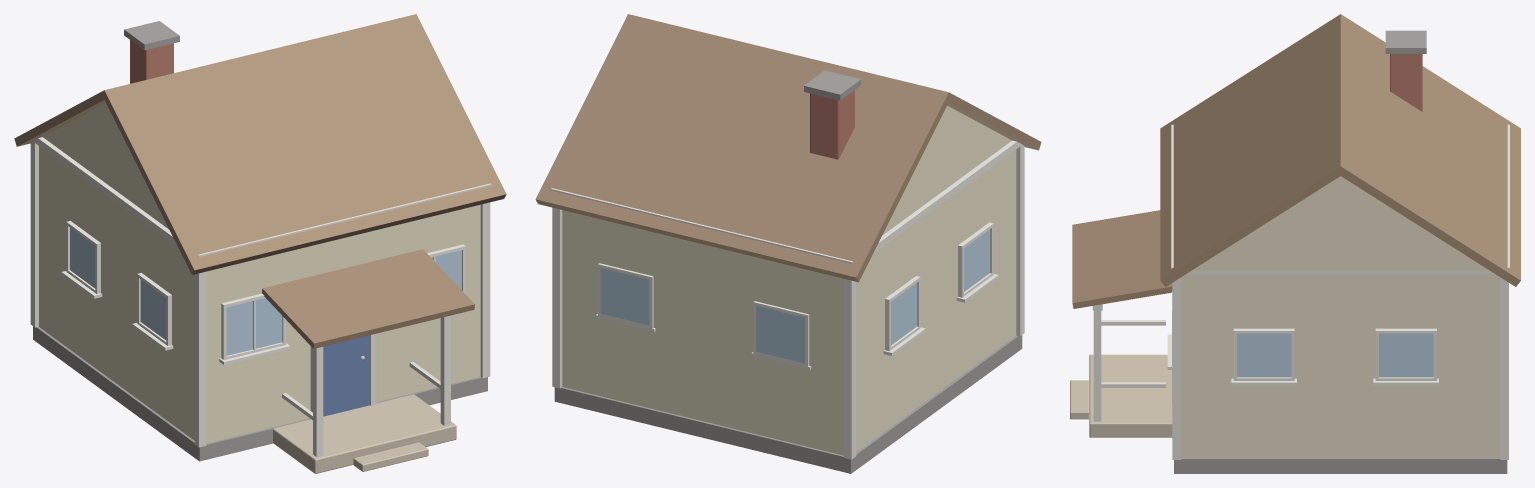
File: HouseCreamModel.glb
3 views of the same model, side by side, from view 1: azimuth 30°, elevation 25°; view 2: azimuth 150°, elevation 25°; view 3: azimuth 270°, elevation 25° (orthographic). The views are drawn at different scales.
Visible parts, largest first — view 1: HouseCreamModel; view 2: HouseCreamModel; view 3: HouseCreamModel.
Boxes of the visible parts, x1=… form: HouseCreamModel: x1=14, y1=14, x2=506, y2=473; HouseCreamModel: x1=535, y1=14, x2=1041, y2=473; HouseCreamModel: x1=1070, y1=14, x2=1520, y2=473.
Size of the model in its own units: 6.6 by 6.61 by 8.26.
